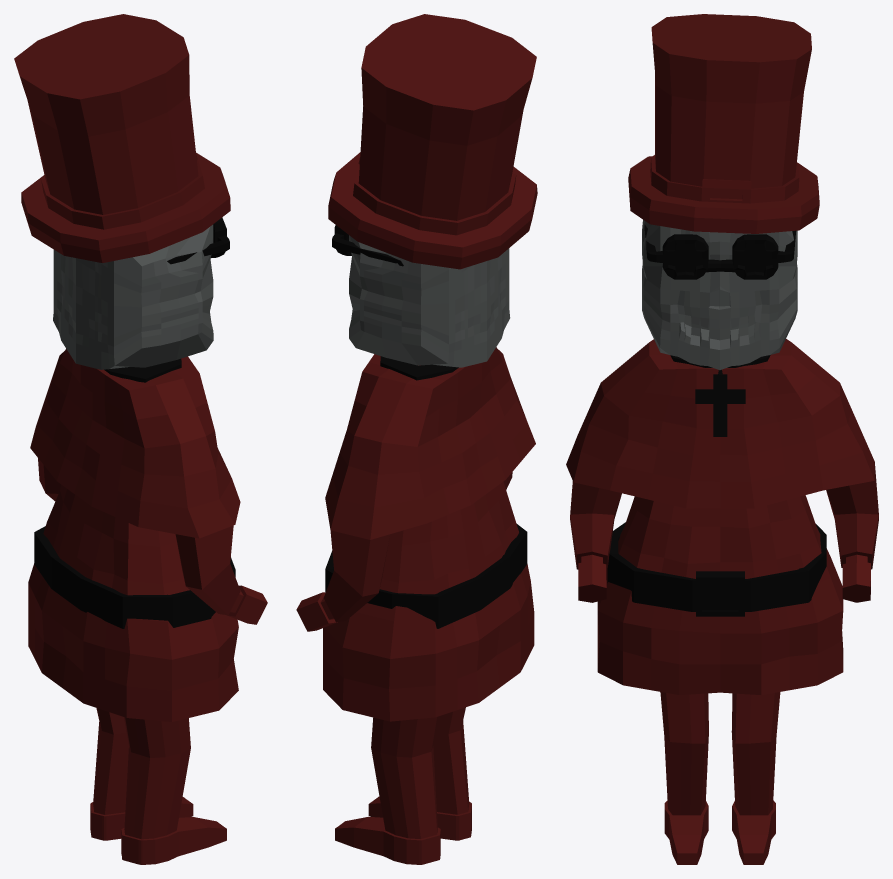
The model's file is Skelleton Pack.fbx.
3 views of the same model, side by side, from view 1: azimuth 30°, elevation 25°; view 2: azimuth 150°, elevation 25°; view 3: azimuth 270°, elevation 25° (orthographic).
Visible parts, largest first — view 1: Cube.008, Plane.001, Cube.005, Cube.010, Cube.011, Cube.009, Cube.007; view 2: Cube.008, Plane.001, Cube.005, Cube.010, Cube.009, Cube.007; view 3: Cube.008, Plane.001, Cube.005, Cube.010, Cube.007, Cube.011, Cube.009.
Boxes of the visible parts, x1,y1,x2,y2 form: Cube.008: (28, 348, 240, 864); Plane.001: (14, 14, 230, 262); Cube.005: (53, 224, 213, 369); Cube.010: (34, 526, 235, 628); Cube.011: (175, 525, 267, 624); Cube.009: (104, 358, 181, 382); Cube.007: (167, 217, 229, 264); Cube.008: (296, 347, 535, 864); Plane.001: (328, 14, 537, 269); Cube.005: (349, 235, 510, 367); Cube.010: (325, 523, 527, 628); Cube.009: (380, 356, 458, 380); Cube.007: (332, 225, 403, 266); Cube.008: (566, 339, 878, 864); Plane.001: (628, 14, 819, 233); Cube.005: (642, 220, 797, 370); Cube.010: (607, 522, 826, 616); Cube.007: (644, 224, 796, 279); Cube.011: (570, 481, 621, 602); Cube.009: (670, 355, 770, 436).
Size of the model in its own units: 192 by 829 by 297.
